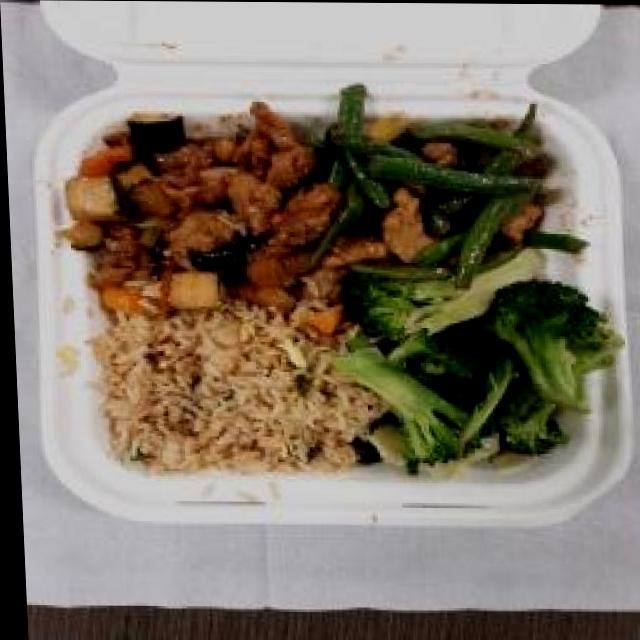Fried Rice: (91, 310, 357, 477)
Kung Pao Chicken: (52, 108, 342, 323)
String Bean Chicken Breast: (308, 100, 578, 286)
Super Greens: (334, 262, 620, 479)
